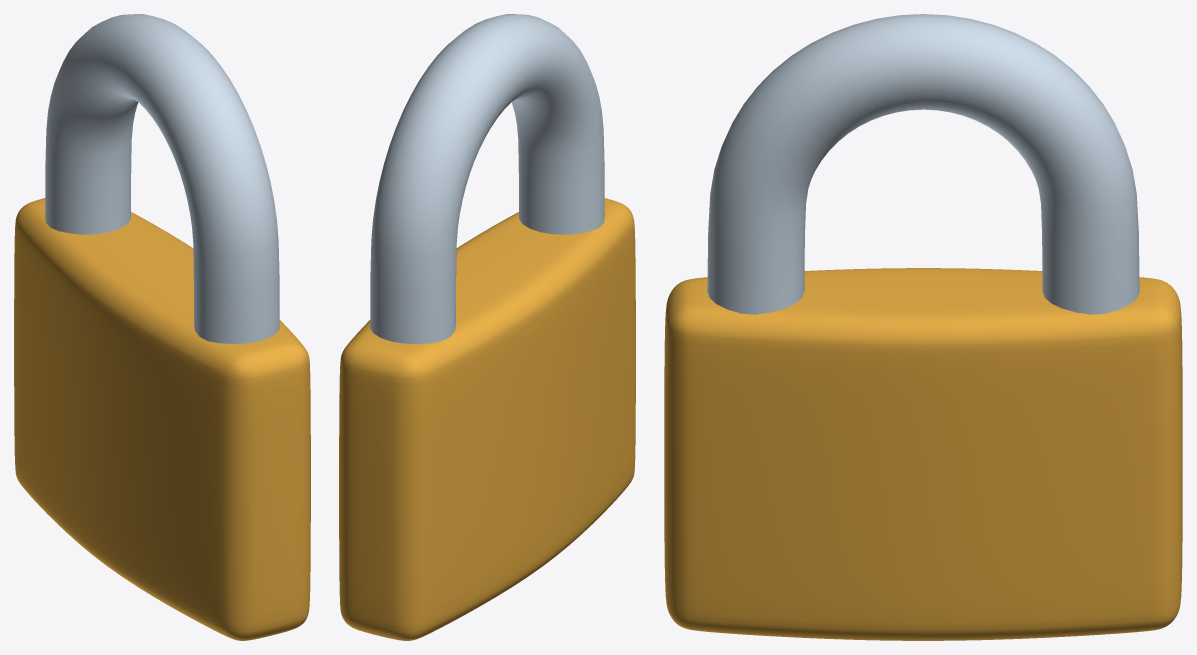
The model's file is lock no text .fbx.
The picture shows the model from 3 angles, left to right: view 1: azimuth 30°, elevation 25°; view 2: azimuth 150°, elevation 25°; view 3: azimuth 270°, elevation 25°; orthographic projection. The views are drawn at different scales.
Parts seen in each view (by area): view 1: Cube, Circle; view 2: Cube, Circle; view 3: Cube, Circle.
Boxes of the visible parts, <box> form: Cube: <box>14,198,310,640</box>; Circle: <box>45,14,279,344</box>; Cube: <box>339,198,635,640</box>; Circle: <box>370,14,604,344</box>; Cube: <box>664,268,1182,640</box>; Circle: <box>707,14,1139,314</box>.
Size of the model in its own units: 62.78 by 255 by 200.
